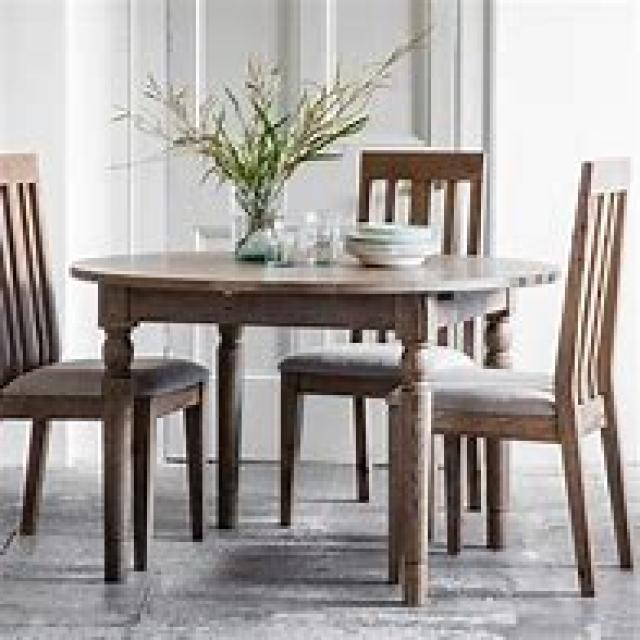chair: (388, 153, 634, 601), (0, 150, 209, 581), (274, 147, 486, 545)
table: (65, 245, 562, 594)
